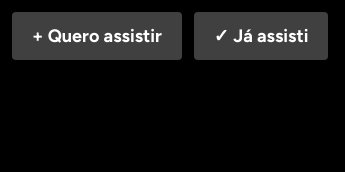
Scenario: erro volta ao estado anterior e avisa
This screenshot has width=345, height=172.
Click the button "+ Quero assistir" at [97, 36], box [12, 12, 182, 60]
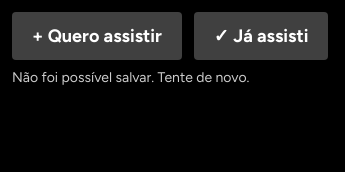
Expected: the message reads "Não foi possível salvar. Tente de novo.", [12, 69, 250, 86]
